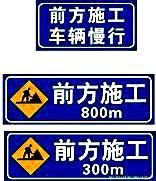sign: (4, 74, 153, 123), (5, 131, 154, 179), (37, 1, 135, 49)
